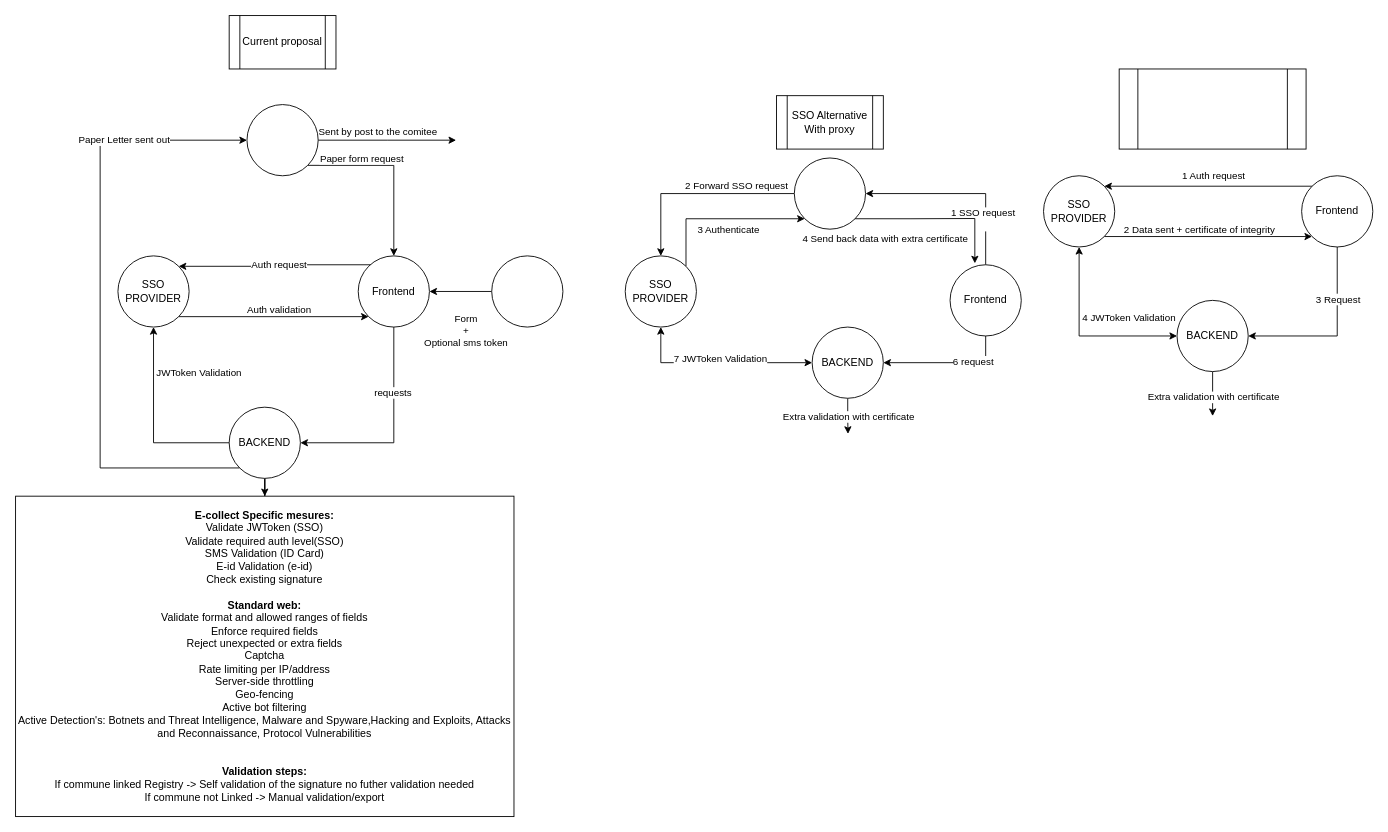
This 1388x832 diagram has some shape labels left out. Here are the shapes that lost their labels. From the top down, the centre of each, then its label:
point (1212, 108): Alternative to SSO Process with SSO Provider cooperation
point (282, 140): Paper form
point (829, 193): Key proxy
point (527, 291): ID
